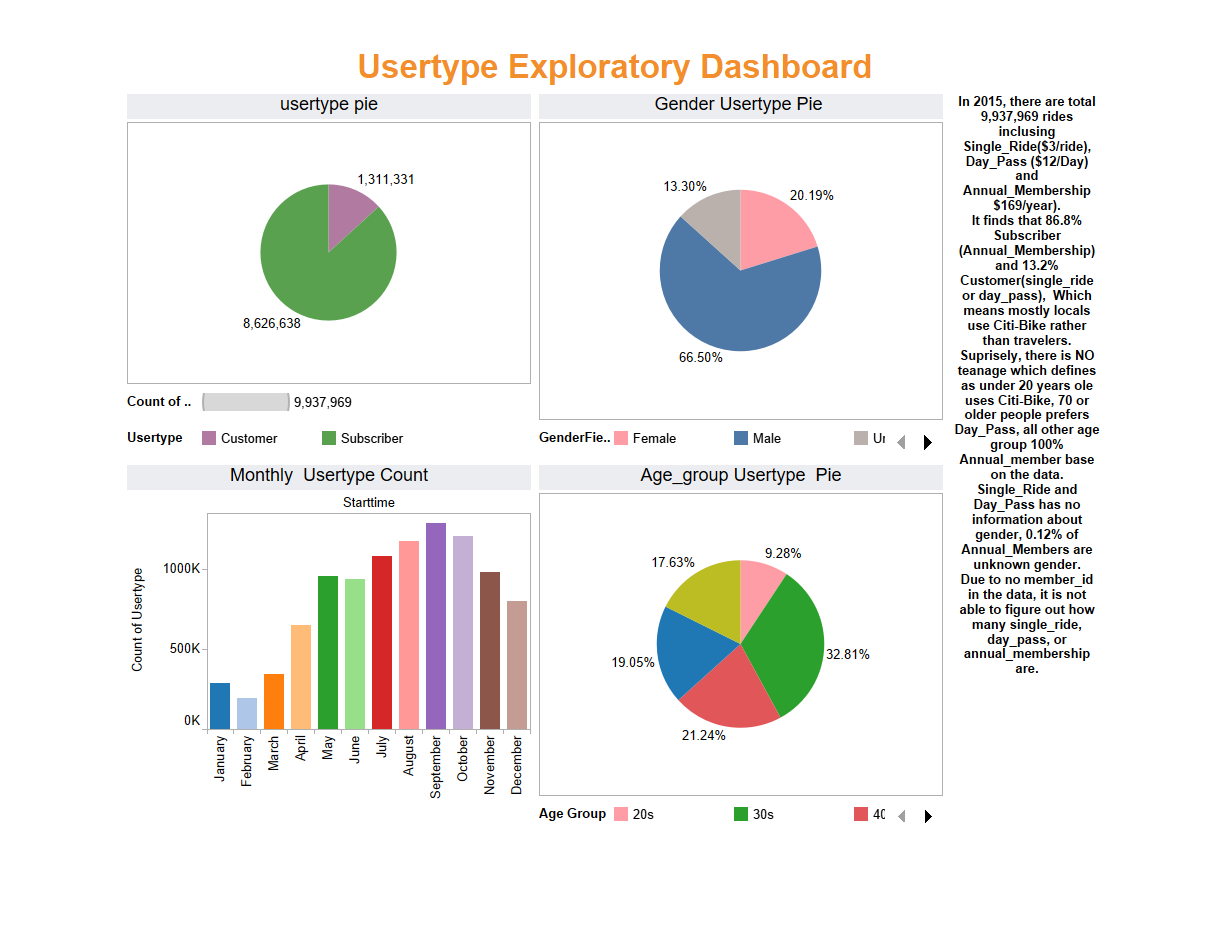

What the dashboard file says about the page in this screenshot:
{"tool":"tableau","page":{"name":"Usertype Exploratory Dashboard","canvas":[1000,800],"ordinal":6},"visuals":[{"type":"title","box":[8,8,984,42]},{"type":"worksheet","title":"usertype pie","mark":"Pie","box":[8,50,412,298.2]},{"type":"worksheet","title":"Gender Usertype Pie ","mark":"Pie","box":[420,50,412,333.6]},{"type":"text","box":[832,50,160,623]},{"type":"legend","title":"Gender Usertype Pie ","param":"[federated.1mewo8x06ns2is1c3jf3m0rmrl03].[cnt:usertype:qk]","box":[8,348.2,412,35.4]},{"type":"legend","title":"usertype pie","param":"[federated.1mewo8x06ns2is1c3jf3m0rmrl03].[none:usertype:nk]","box":[8,383.6,412,37.3]},{"type":"legend","title":"Gender Usertype Pie ","param":"[federated.1mewo8x06ns2is1c3jf3m0rmrl03].[none:Calculation_579838478923661312:nk","box":[420,383.6,412,37.3]},{"type":"worksheet","title":"Monthly  Usertype Count","mark":"Bar","rows":["usertype"],"cols":["starttime"],"box":[8,420.8,412,371.2]},{"type":"worksheet","title":"Age_group Usertype  Pie","mark":"Pie","box":[420,420.8,412,338.8]},{"type":"legend","title":"Age_group Usertype  Pie","param":"[federated.1mewo8x06ns2is1c3jf3m0rmrl03].[none:Calculation_579838478932131841:nk","box":[420,759.6,412,32.4]}]}

Visuals, with their boxes in screenshot pixels (x1, y1, x2, y2), scaled from the page's 1000x800 canvas onto the 1215x951 screenshot:
title: BBox(10, 10, 1205, 59)
"usertype pie" worksheet (Pie marks): BBox(10, 59, 510, 414)
"Gender Usertype Pie " worksheet (Pie marks): BBox(510, 59, 1011, 456)
text: BBox(1011, 59, 1205, 800)
"Gender Usertype Pie " legend: BBox(10, 414, 510, 456)
"usertype pie" legend: BBox(10, 456, 510, 500)
"Gender Usertype Pie " legend: BBox(510, 456, 1011, 500)
"Monthly  Usertype Count" worksheet (Bar marks): BBox(10, 500, 510, 941)
"Age_group Usertype  Pie" worksheet (Pie marks): BBox(510, 500, 1011, 903)
"Age_group Usertype  Pie" legend: BBox(510, 903, 1011, 941)
